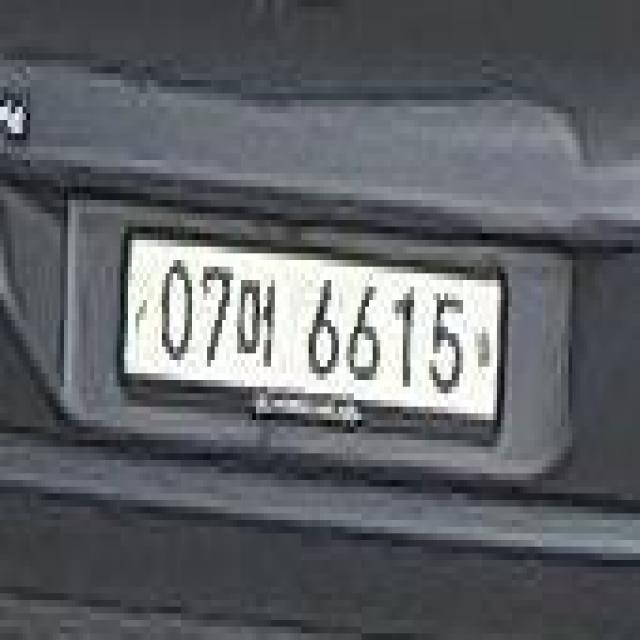illegal_plate: (120, 221, 510, 458)
